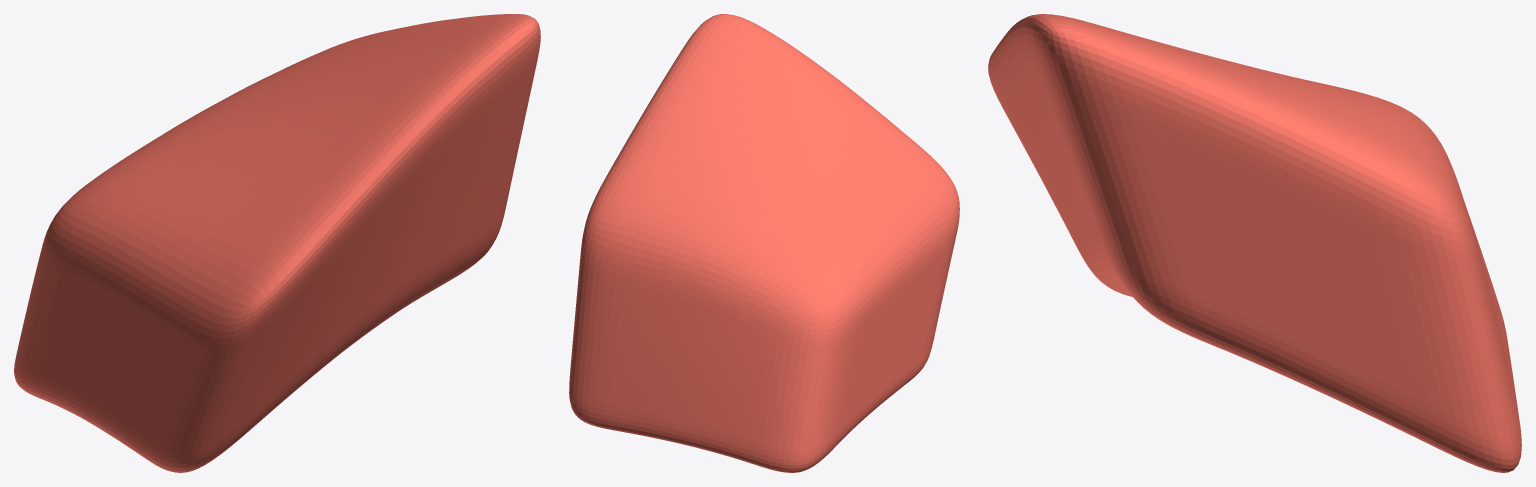
3 renders of one model, left to right at view 1: azimuth 30°, elevation 25°; view 2: azimuth 150°, elevation 25°; view 3: azimuth 270°, elevation 25°, orthographic. The views are drawn at different scales.
Visible parts, largest first — view 1: waves_1.040; view 2: waves_1.040; view 3: waves_1.040.
Part boxes in pixels (x1,y1,x2,y2): waves_1.040: (14, 14, 540, 472); waves_1.040: (569, 14, 959, 472); waves_1.040: (988, 14, 1521, 472).
Bounding box in the file's own units: 30.45 × 35.43 × 36.66.
